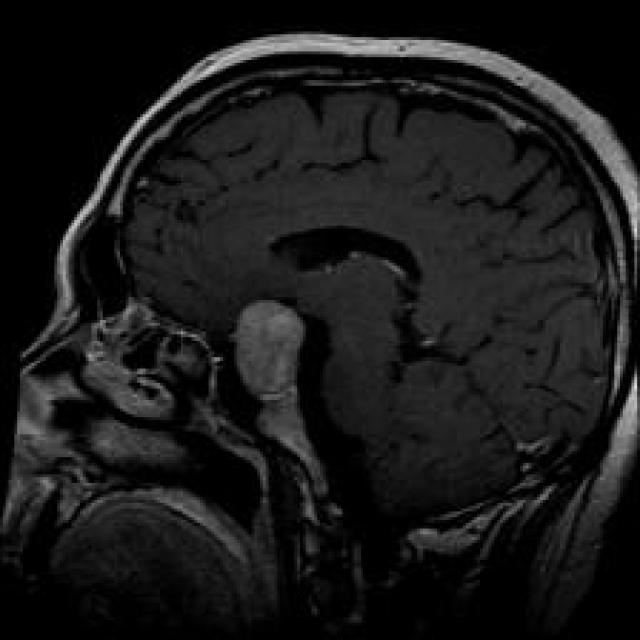pituitary_tumor: (202, 283, 335, 458)
